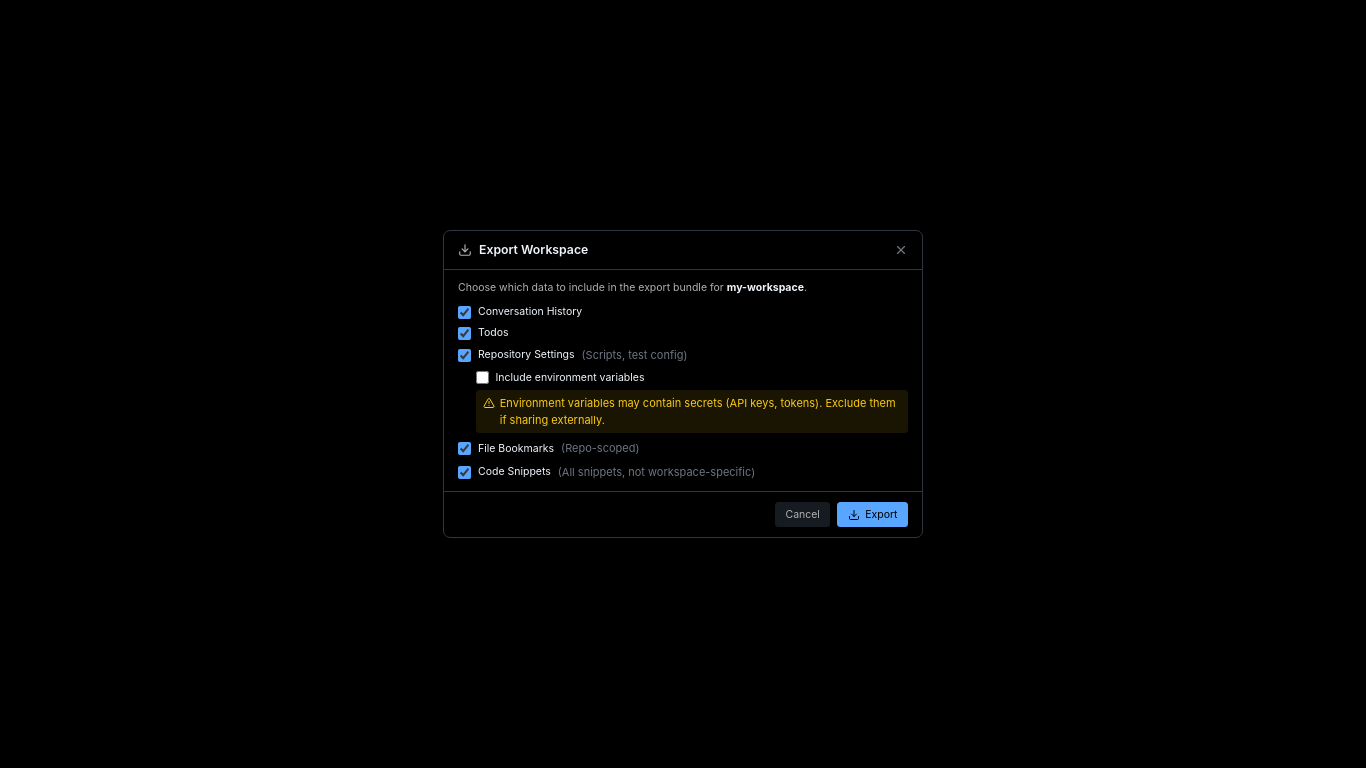
WorkspaceExportDialog › hides env vars section when repo settings unchecked
Click the checkbox labelled "Repository Settings (Scripts, test config)". click: (464, 355)
box: [458,349,471,362]
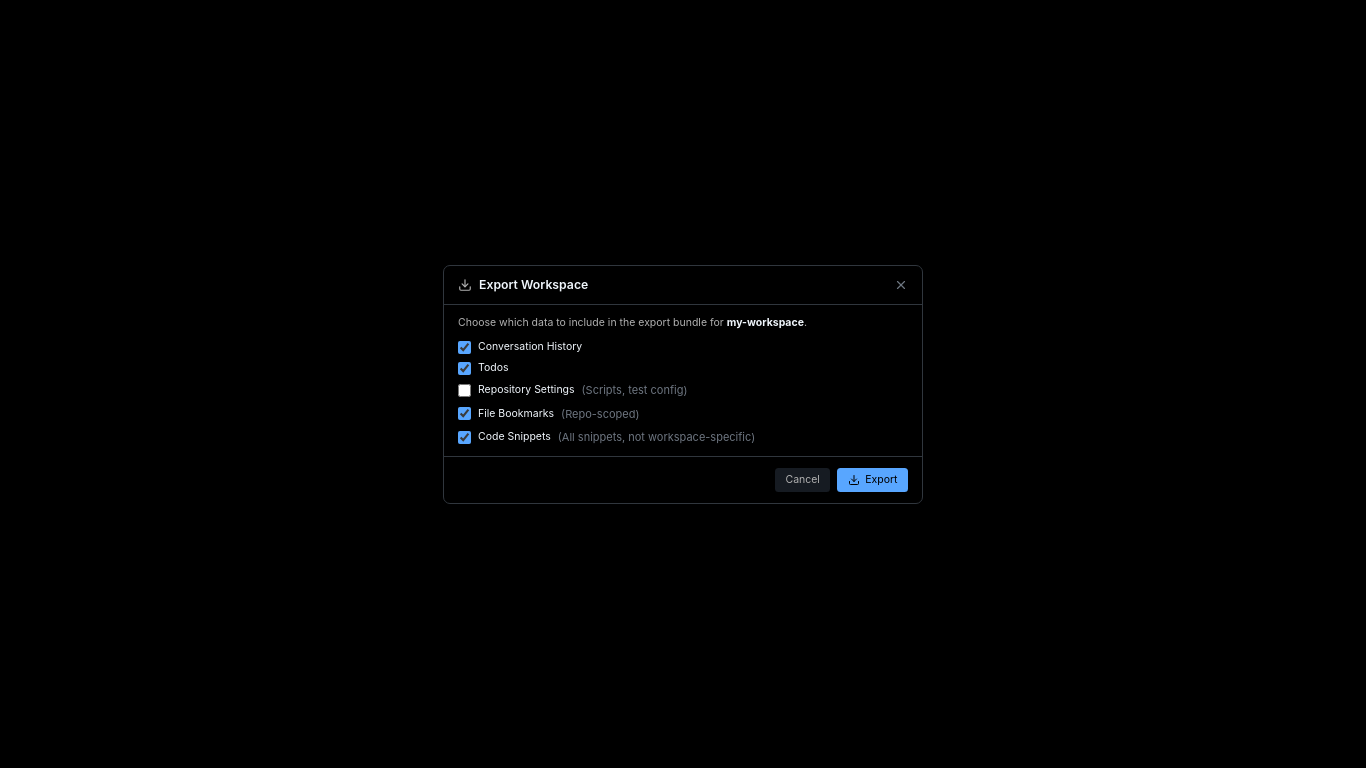
expect the text "Environment variables may contain secrets" is gone: met
